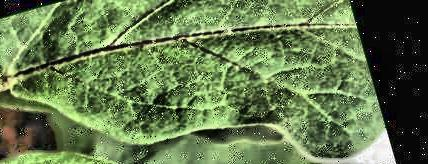HEALTHY: (0, 0, 428, 164)
